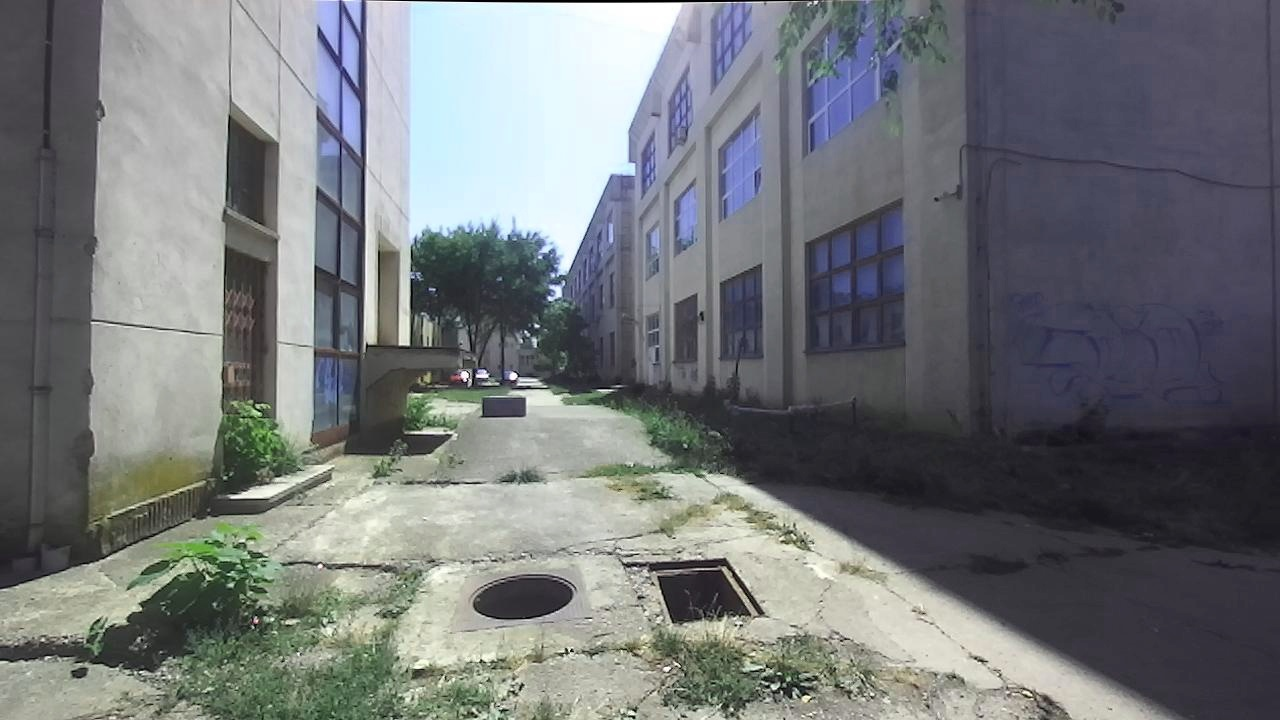drain: (646, 553, 770, 628), (464, 569, 582, 621)
